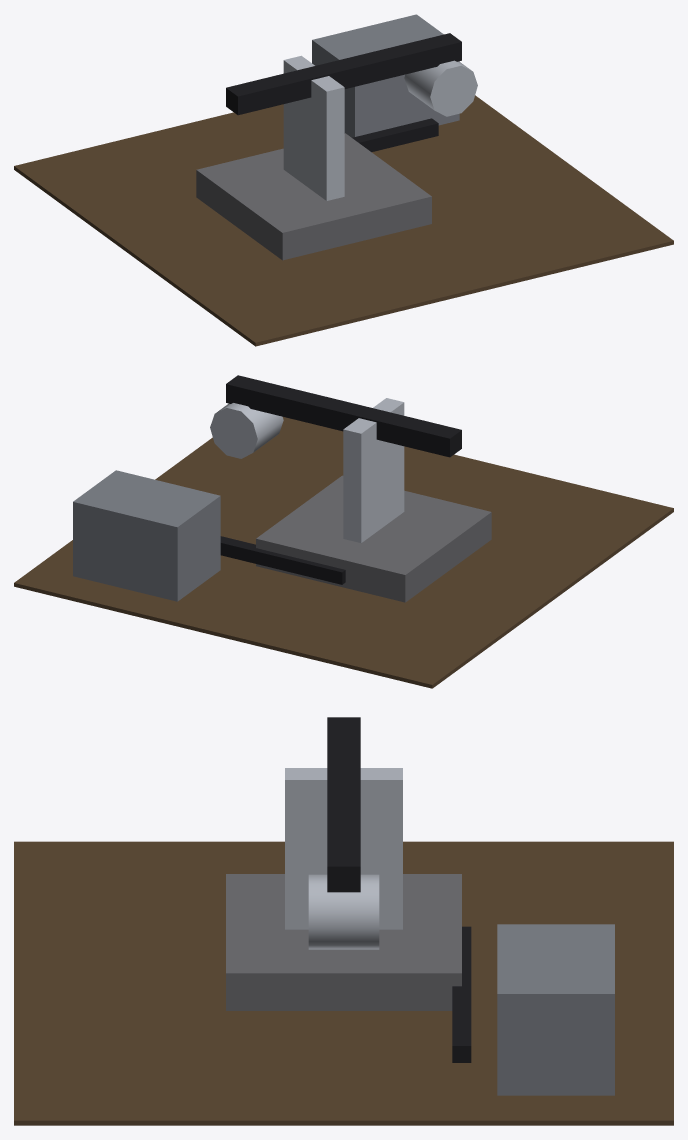
Rendered from oil_well.glb.
3 renders of one model, top to bottom at view 1: azimuth 30°, elevation 25°; view 2: azimuth 150°, elevation 25°; view 3: azimuth 270°, elevation 25°, orthographic. The views are drawn at different scales.
Visible parts, largest first — view 1: Pad, Base, Tank, Beam, Post, Head, Pipe; view 2: Pad, Tank, Base, Beam, Post, Head, Pipe; view 3: Pad, Base, Tank, Post, Beam, Head, Pipe.
Boxes of the visible parts, x1,y1,x2,y2 form: Pad: (14,95,673,346); Base: (196,133,431,260); Tank: (312,14,459,137); Beam: (226,33,461,115); Post: (283,55,344,200); Head: (404,60,477,116); Pipe: (352,118,438,152); Pad: (14,417,673,688); Tank: (73,470,220,601); Base: (256,475,491,602); Beam: (226,375,461,457); Post: (343,398,404,542); Head: (210,403,283,458); Pipe: (220,536,345,584); Pad: (14,841,673,1125); Base: (226,874,461,1010); Tank: (497,924,614,1095); Post: (285,768,402,929); Beam: (327,717,360,892); Head: (308,874,379,949); Pipe: (452,926,471,1062).
Size of the model in its own units: 2.8 by 0.91 by 2.8.
